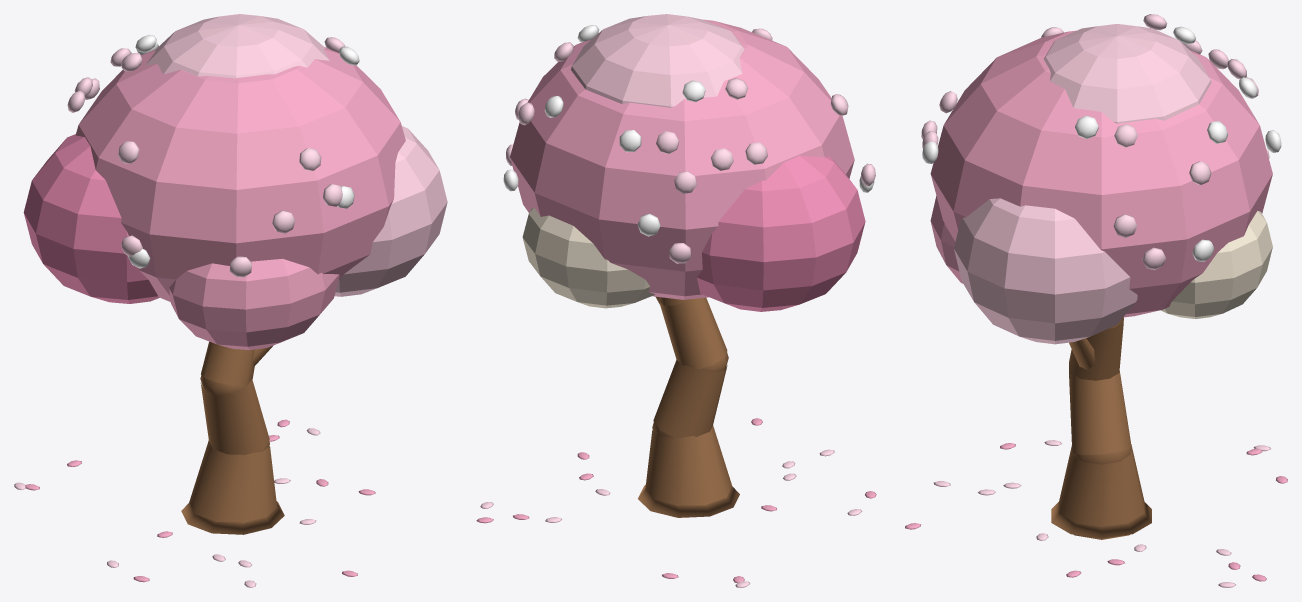
The model's file is tree_blossom.glb.
3 views of the same model, side by side, from view 1: azimuth 30°, elevation 25°; view 2: azimuth 150°, elevation 25°; view 3: azimuth 270°, elevation 25° (orthographic). The views are drawn at different scales.
Visible parts, largest first — view 1: tree_blossom; view 2: tree_blossom; view 3: tree_blossom.
Boxes of the visible parts, x1,y1,x2,y2 form: tree_blossom: (14, 14, 447, 587); tree_blossom: (476, 14, 876, 587); tree_blossom: (905, 14, 1287, 587).
Size of the model in its own units: 2.72 by 3.48 by 2.46.
Materials: 1 (1 with a texture image).
